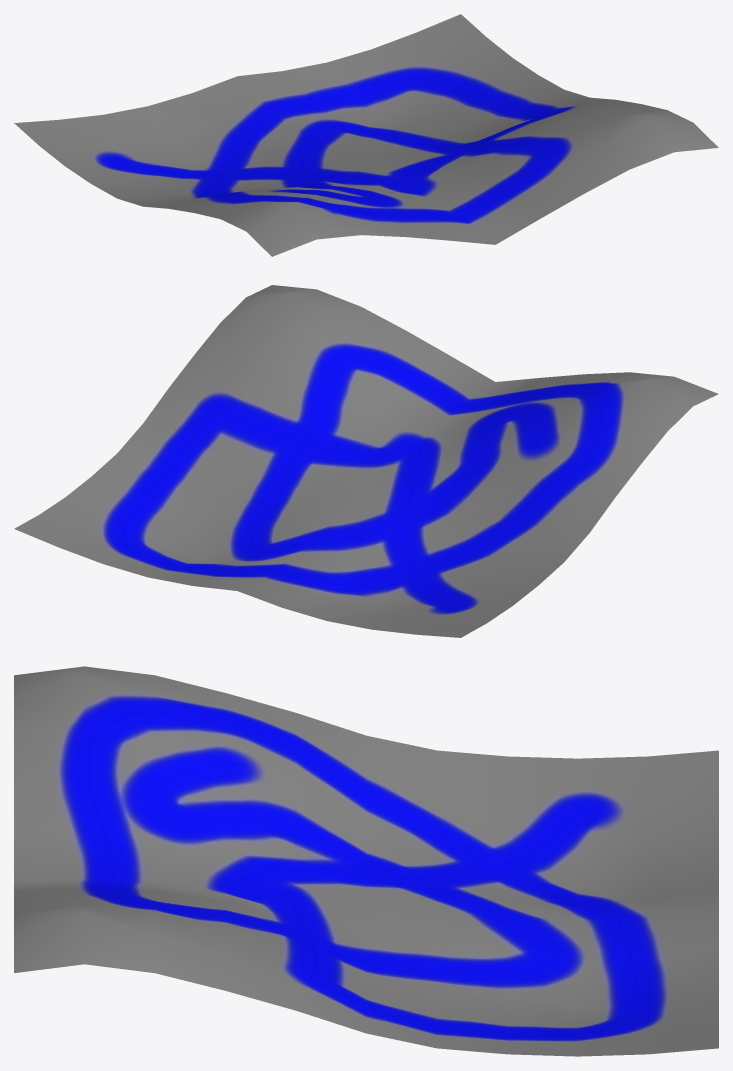
File: TerrenoTeste.fbx
3 views of the same model, one above another, from view 1: azimuth 30°, elevation 25°; view 2: azimuth 150°, elevation 25°; view 3: azimuth 270°, elevation 25° (orthographic). The views are drawn at different scales.
Visible parts, largest first — view 1: pPlane1; view 2: pPlane1; view 3: pPlane1.
Boxes of the visible parts, x1,y1,x2,y2 form: pPlane1: (14, 14, 718, 256); pPlane1: (14, 285, 718, 637); pPlane1: (14, 666, 718, 1056).
Size of the model in its own units: 23.37 by 5.63 by 23.37.
